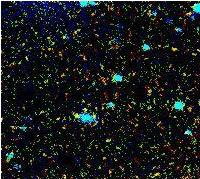star: (59, 98, 89, 128)
